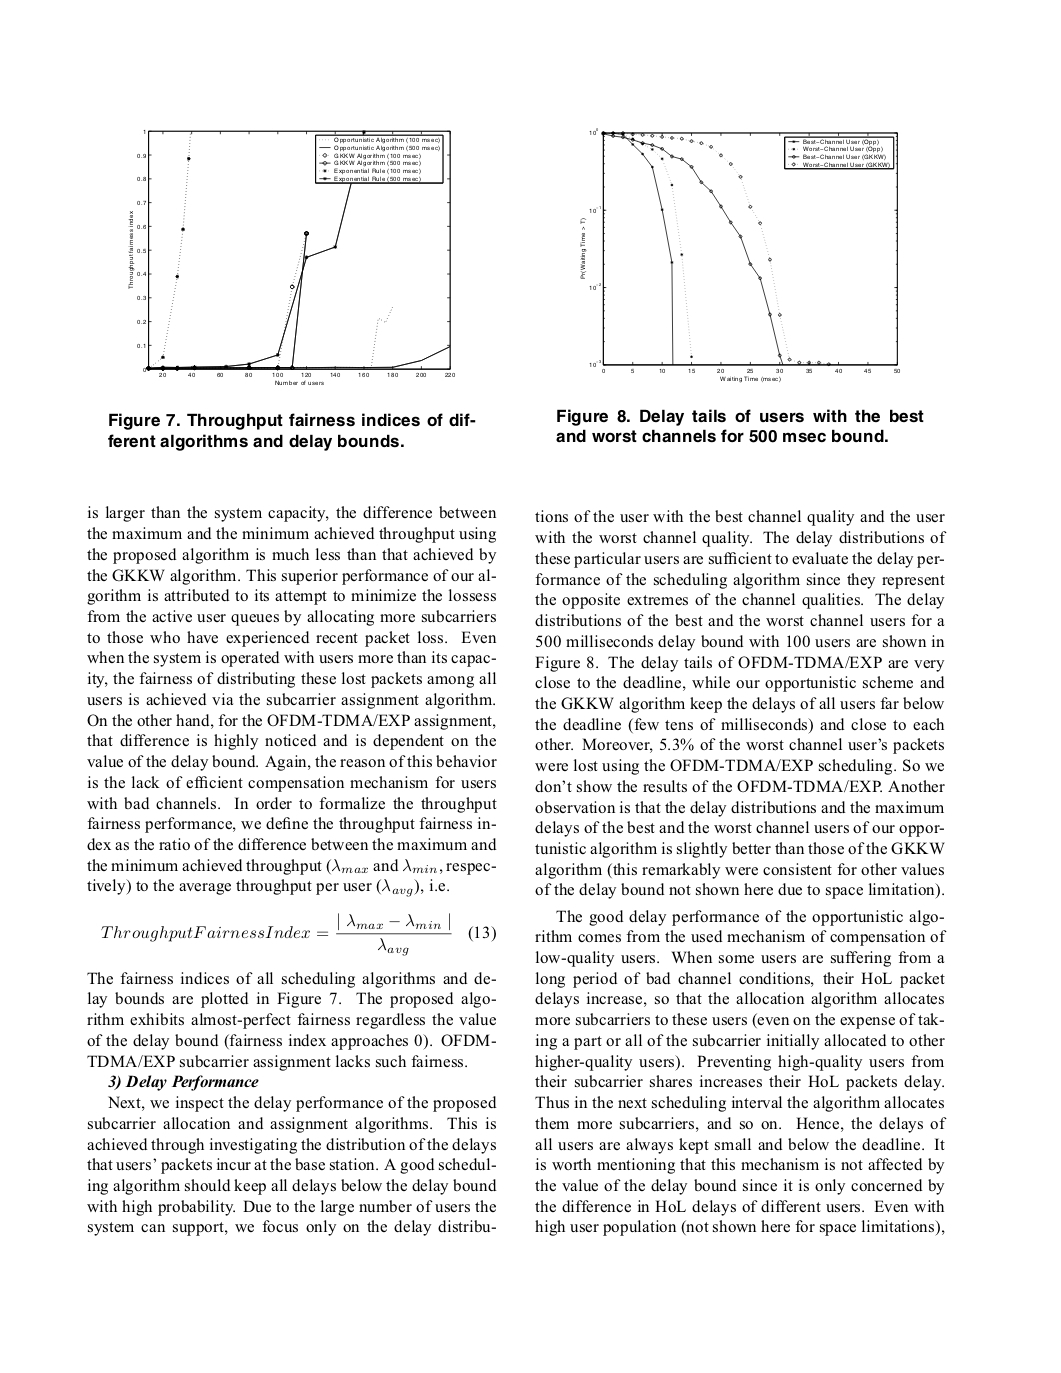figure: (128, 129, 454, 384), (580, 128, 899, 382)
formula: (101, 912, 495, 956)
